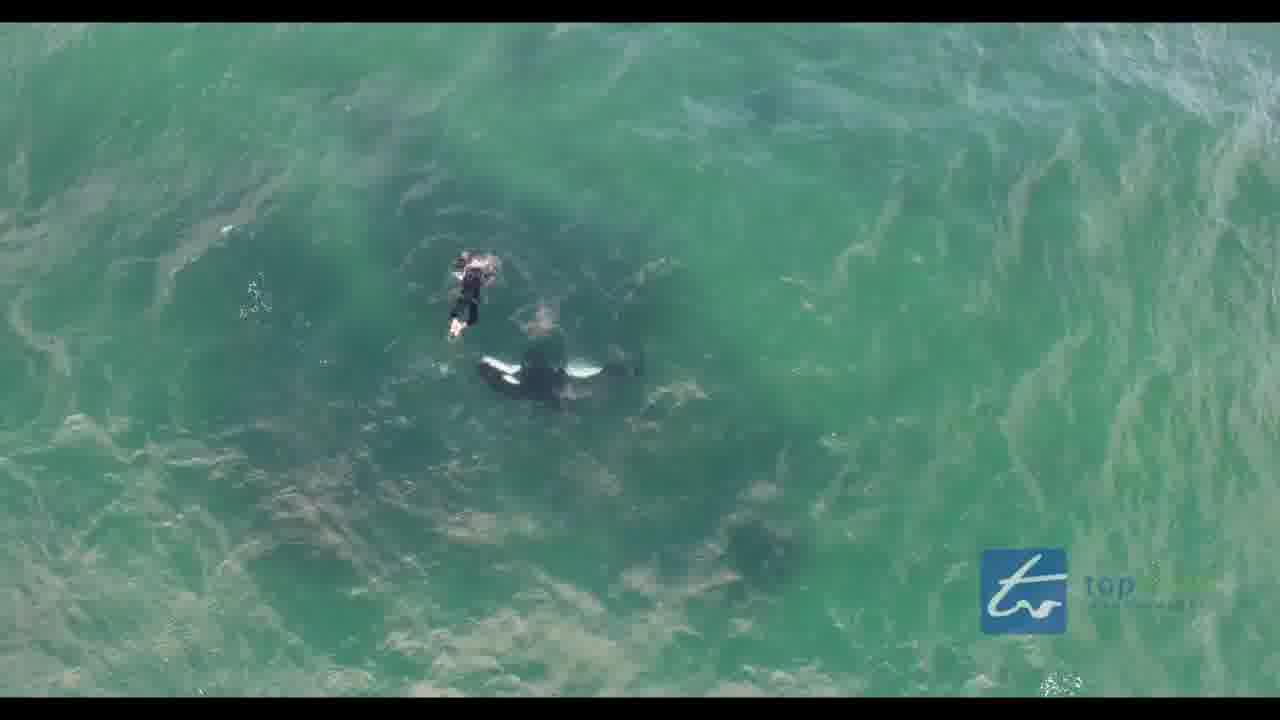human: (438, 249, 499, 343)
